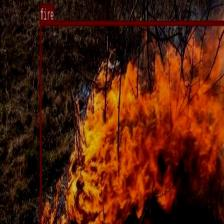fire: (39, 20, 224, 224)
